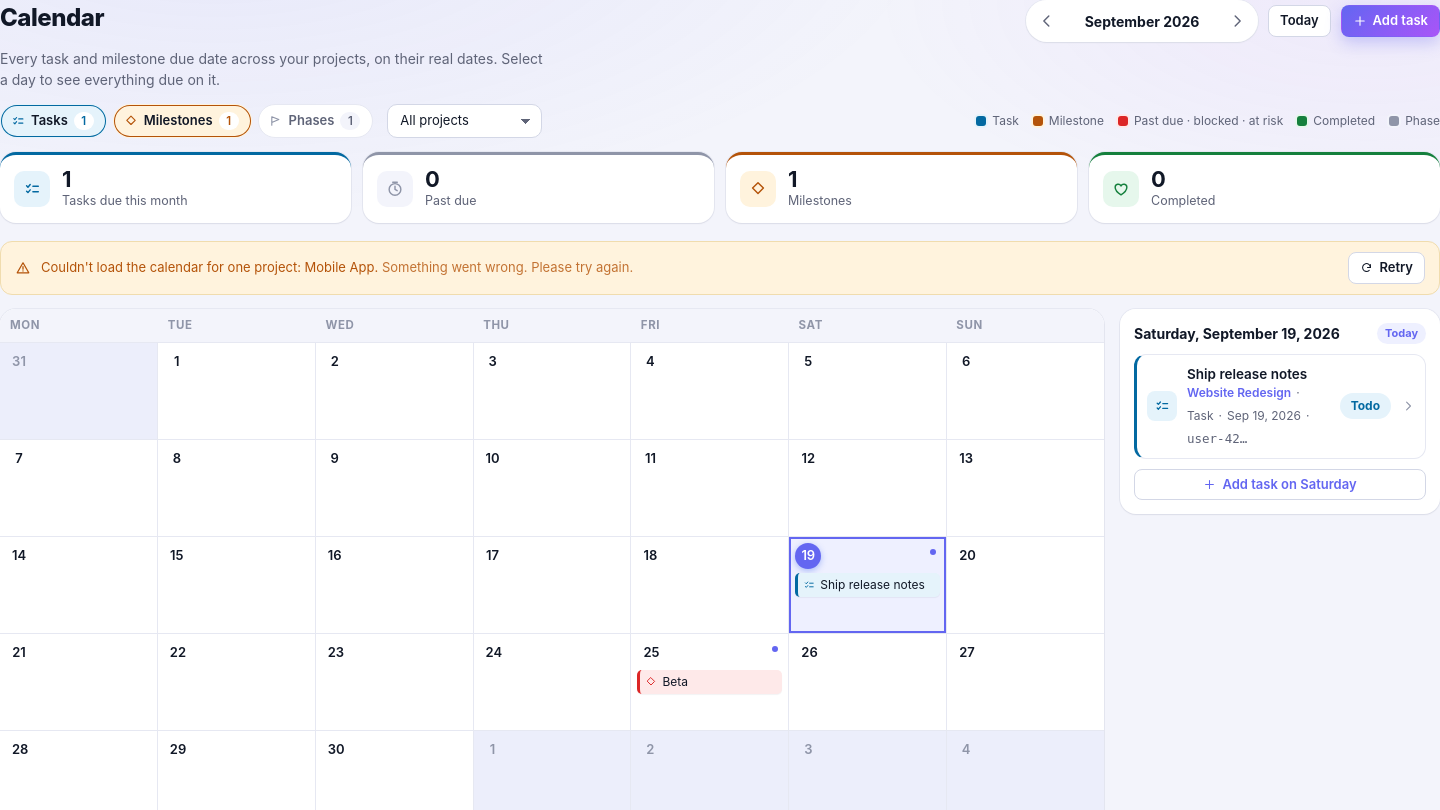
Test case: WorkspaceCalendarPage › keeps the month useful when one project's calendar fails: other projects render plus a notice with Retry
expect the button with aria-label "Task: Ship release notes (Website Redesign)" is shown: met, box x1=795 y1=573 x2=940 y2=597
expect the button "Old task" is not shown: met
Click the button "Retry".
click(1387, 268)  # box x1=1348 y1=252 x2=1425 y2=284
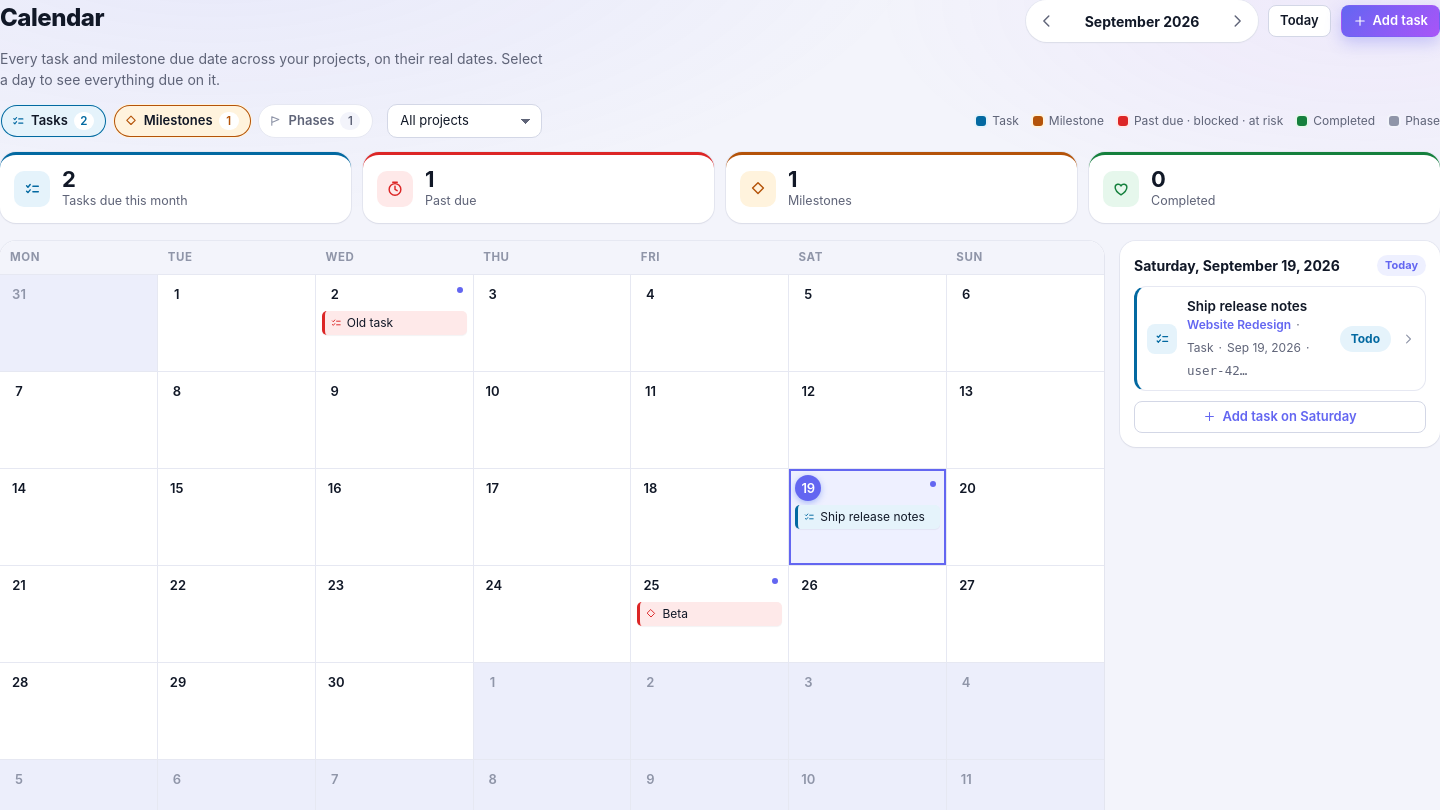
expect the button "Old task" is shown: met, box x1=322 y1=311 x2=467 y2=335
